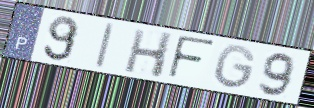9: (42, 15, 82, 63), (259, 51, 297, 98)
F: (165, 33, 218, 82)
G: (213, 43, 258, 92)
H: (122, 28, 175, 81)
I: (93, 21, 117, 70)
